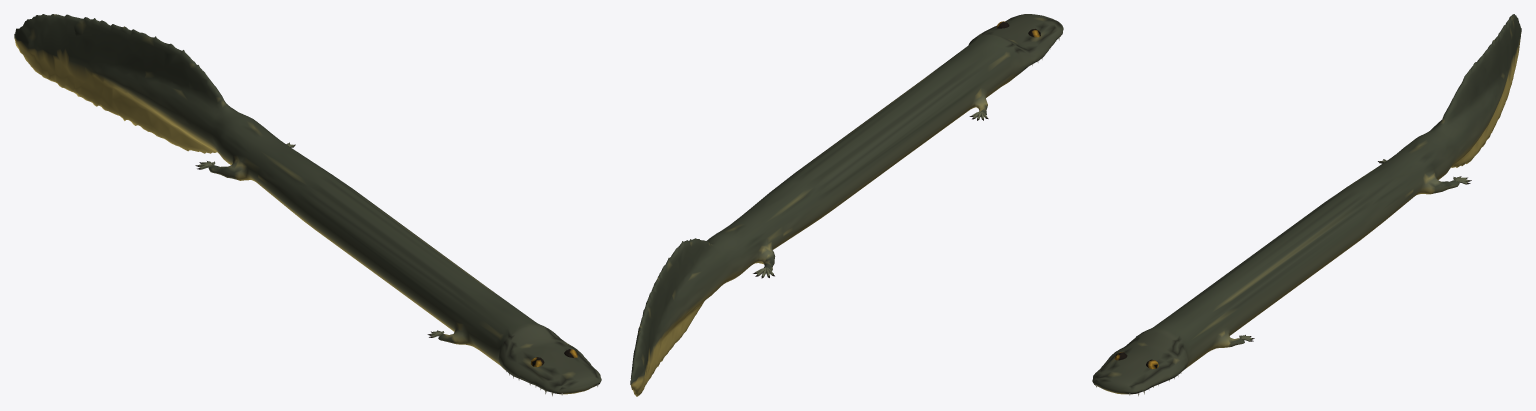
The model's file is Greererpeton.fbx.
3 renders of one model, left to right at view 1: azimuth 30°, elevation 25°; view 2: azimuth 150°, elevation 25°; view 3: azimuth 330°, elevation 25°, orthographic. The views are drawn at different scales.
Parts seen in each view (by area): view 1: Greererpeton; view 2: Greererpeton; view 3: Greererpeton.
Boxes of the visible parts, x1,y1,x2,y2 form: Greererpeton: [14, 14, 601, 396]; Greererpeton: [630, 14, 1063, 396]; Greererpeton: [1092, 14, 1521, 396].
Size of the model in its own units: 0.2058 by 0.1688 by 1.56.
